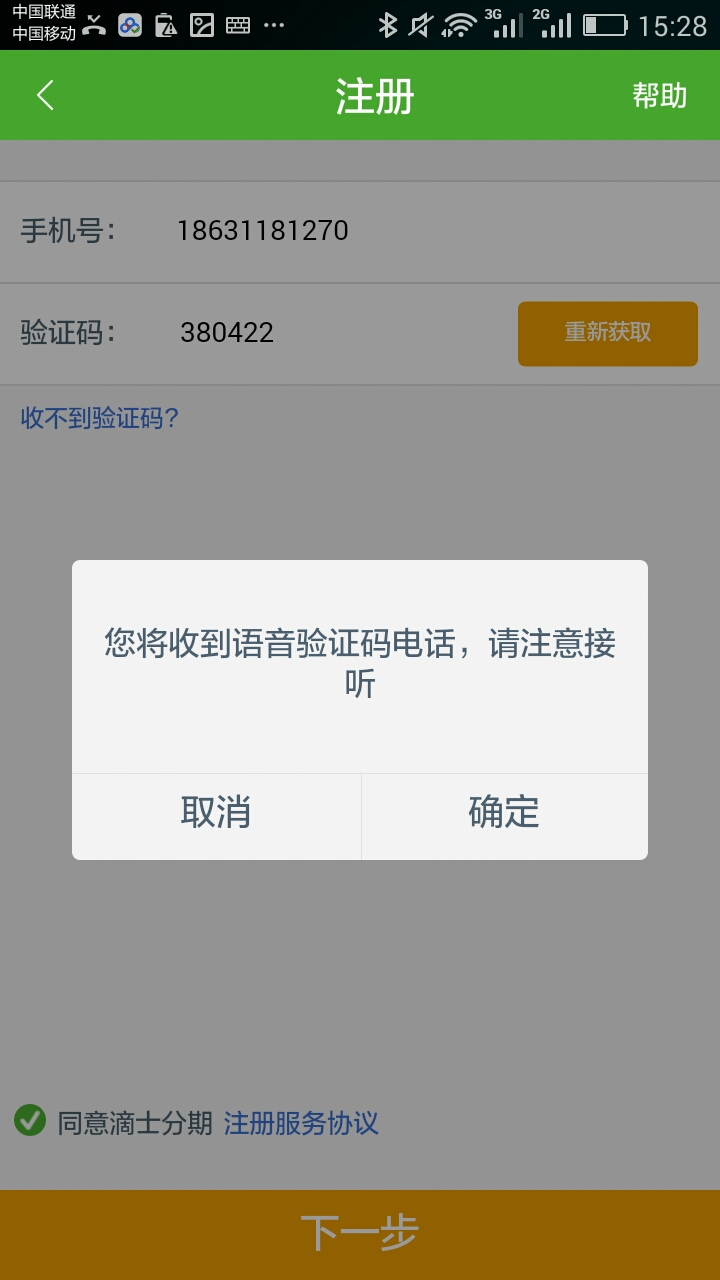alert: (60, 553, 656, 873)
button: (356, 760, 654, 869), (62, 761, 368, 867)
textview: (97, 611, 632, 717)
